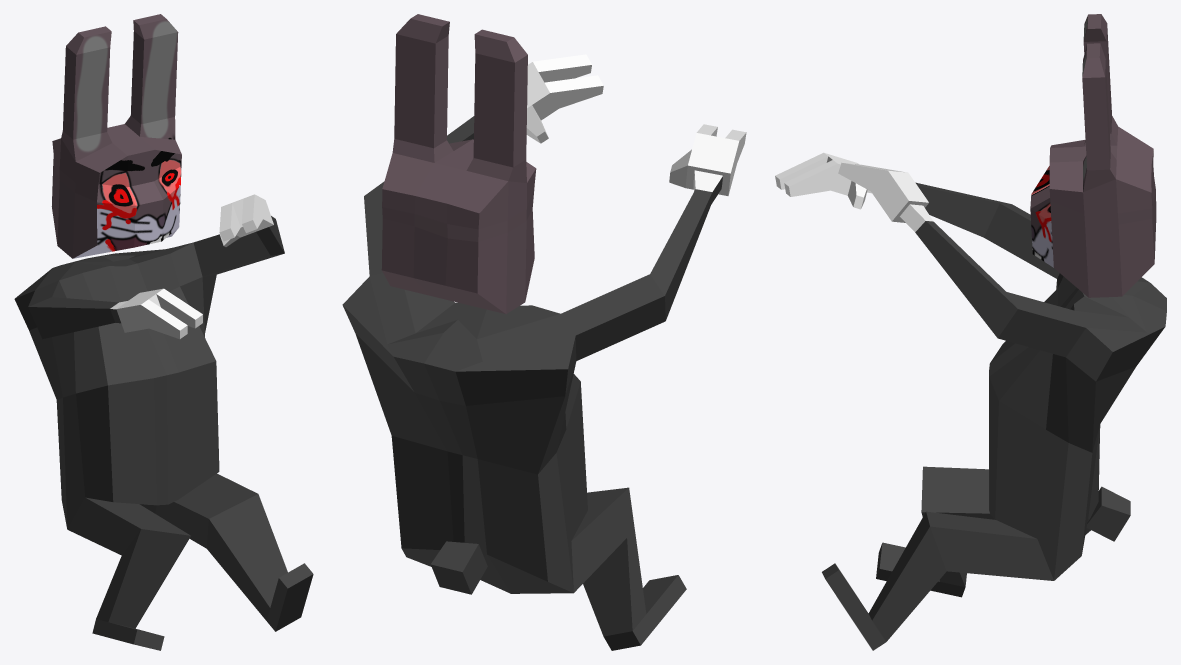
File: chungus_death.fbx
3 renders of one model, left to right at view 1: azimuth 30°, elevation 25°; view 2: azimuth 150°, elevation 25°; view 3: azimuth 270°, elevation 25°, orthographic. The views are drawn at different scales.
Parts seen in each view (by area): view 1: chungus; view 2: chungus; view 3: chungus.
Part boxes in pixels (box(x1,y1,x2,y2)): chungus: box(14, 14, 313, 650); chungus: box(342, 14, 746, 650); chungus: box(775, 14, 1166, 650).
Bounding box in the file's own units: 287 × 607 × 362.
